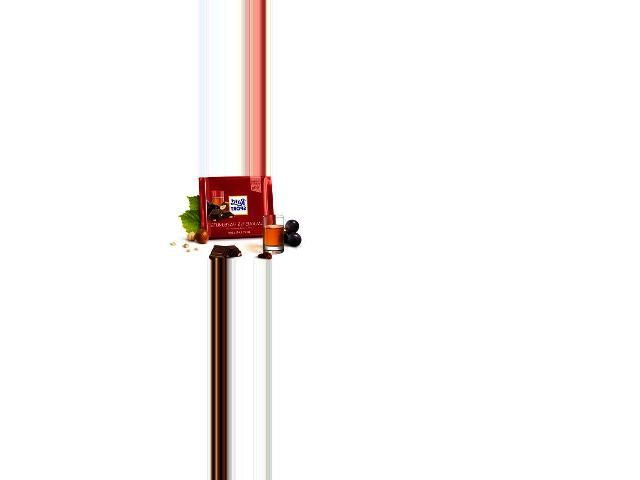chocolate: (196, 177, 271, 239)
